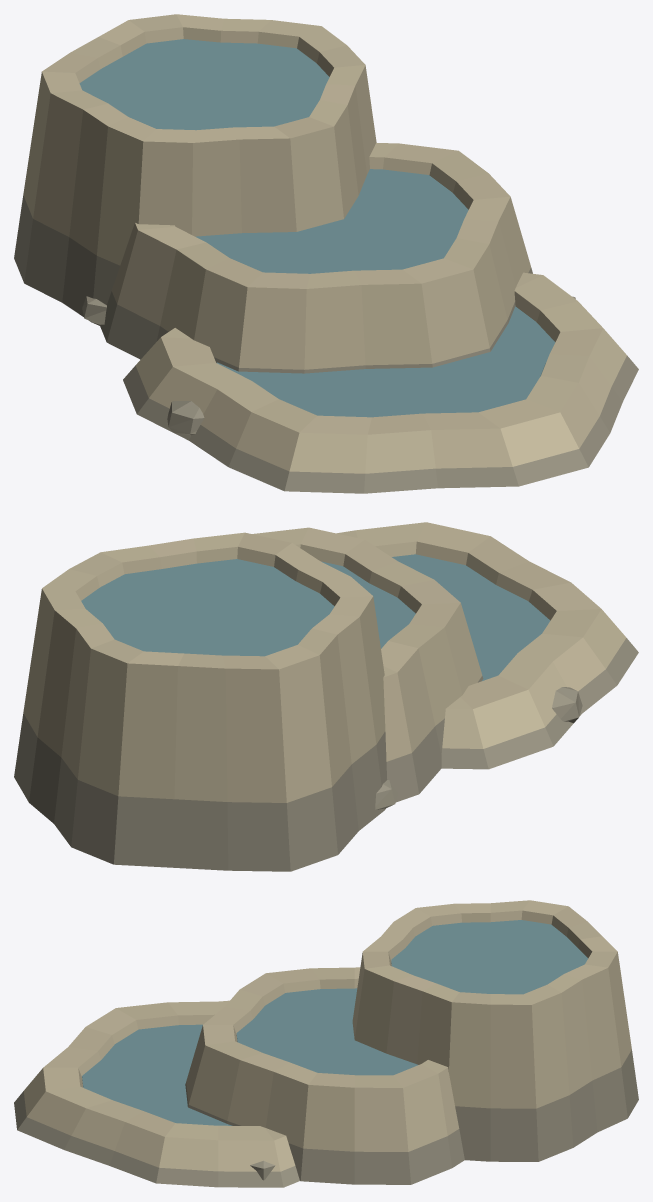
Rendered from Environment_Landmark_Geothermal_001.glb.
The picture shows the model from 3 angles, top to bottom: view 1: azimuth 30°, elevation 25°; view 2: azimuth 150°, elevation 25°; view 3: azimuth 270°, elevation 25°; orthographic projection. The views are drawn at different scales.
Visible parts, largest first — view 1: Environment_Landmark_Geothermal_001; view 2: Environment_Landmark_Geothermal_001; view 3: Environment_Landmark_Geothermal_001.
Part boxes in pixels (box(x1,y1,x2,y2)): Environment_Landmark_Geothermal_001: box(14, 14, 638, 493); Environment_Landmark_Geothermal_001: box(14, 522, 638, 871); Environment_Landmark_Geothermal_001: box(14, 900, 638, 1187).
Bounding box in the file's own units: 8.69 × 3.6 × 13.76.
